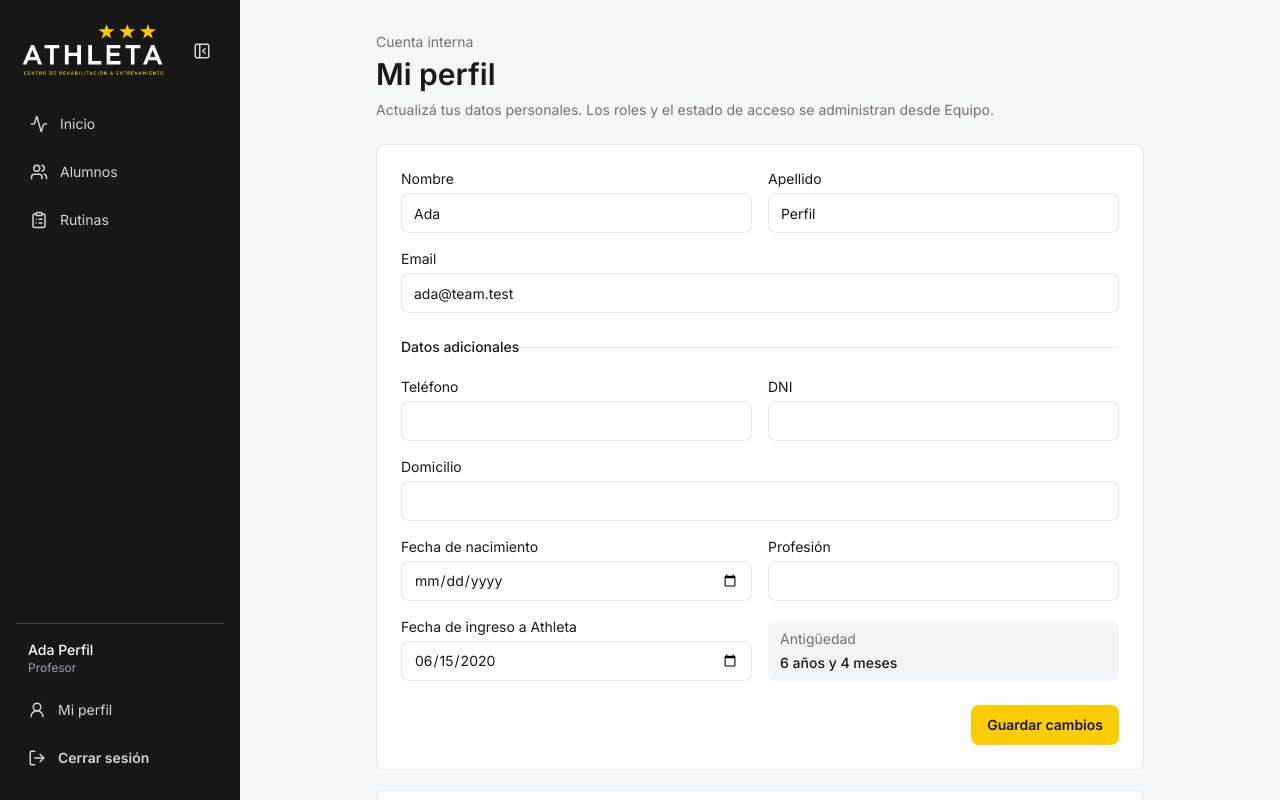
Test case: lets a user update personal data without rendering access-management controls
The image size is (1280, 800).
Expected: the field showing "Ada" is shown, [401,193,752,233]
Expected: the text "6 años y 4 meses" is shown, [780,654,897,671]
Type "27739784" into the field labelled "DNI" at [944, 421], box [768,401,1119,441]
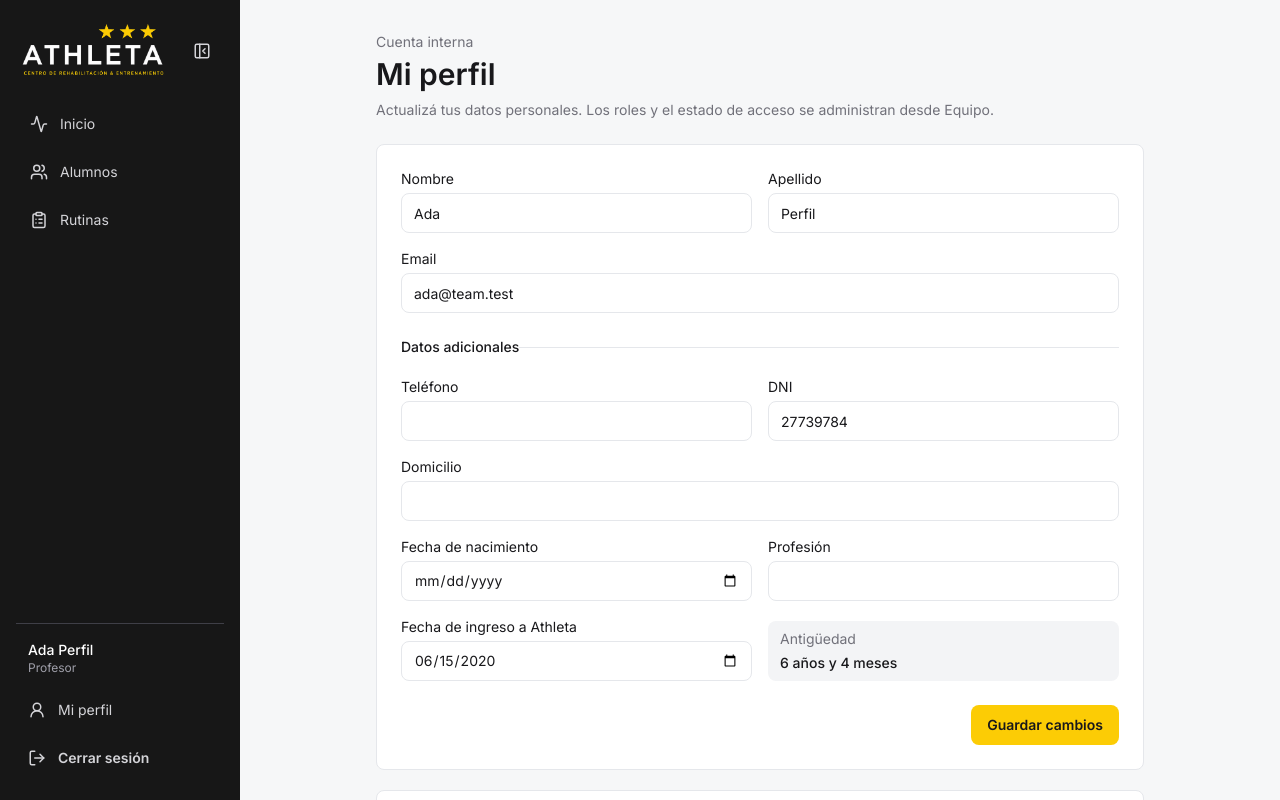
Type "351 555 0101" into the field labelled "Teléfono" at [576, 421], box [401,401,752,441]
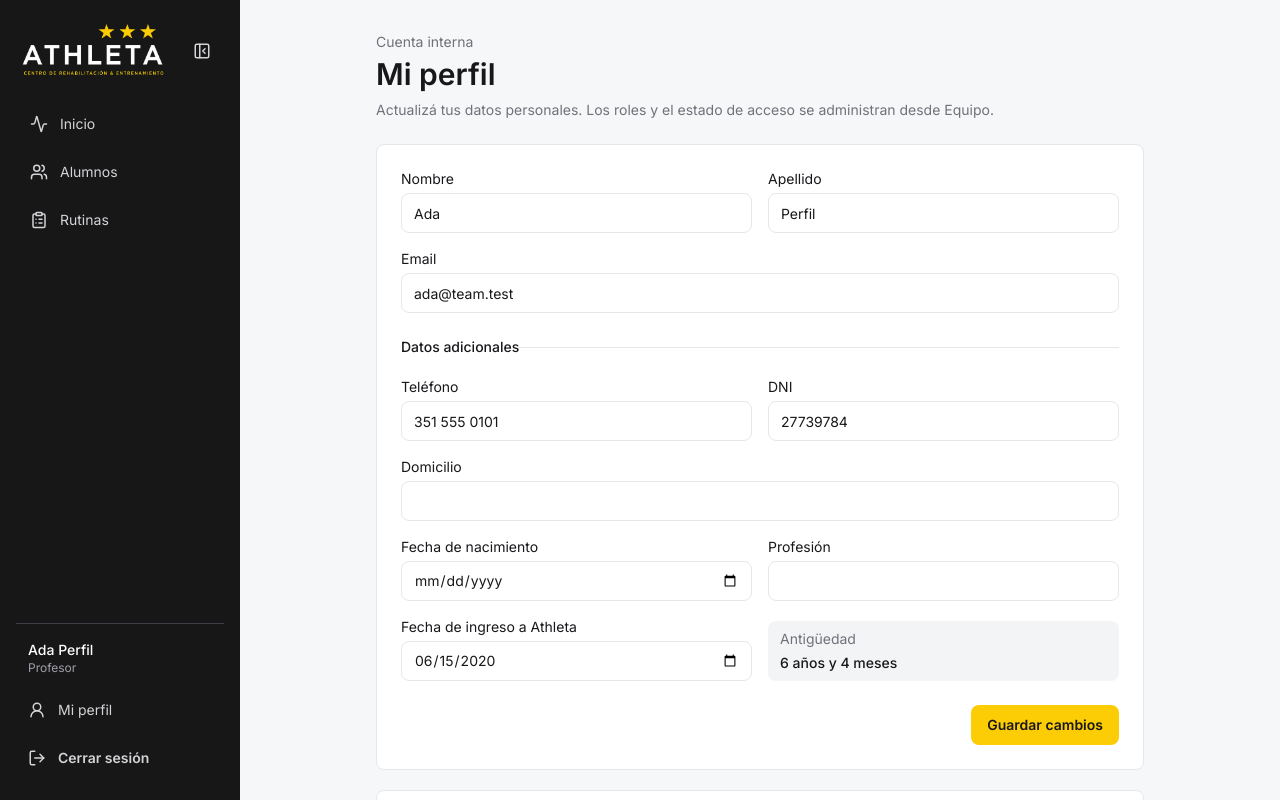
Type "Docente" into the field labelled "Profesión" at [944, 581], box [768,561,1119,601]
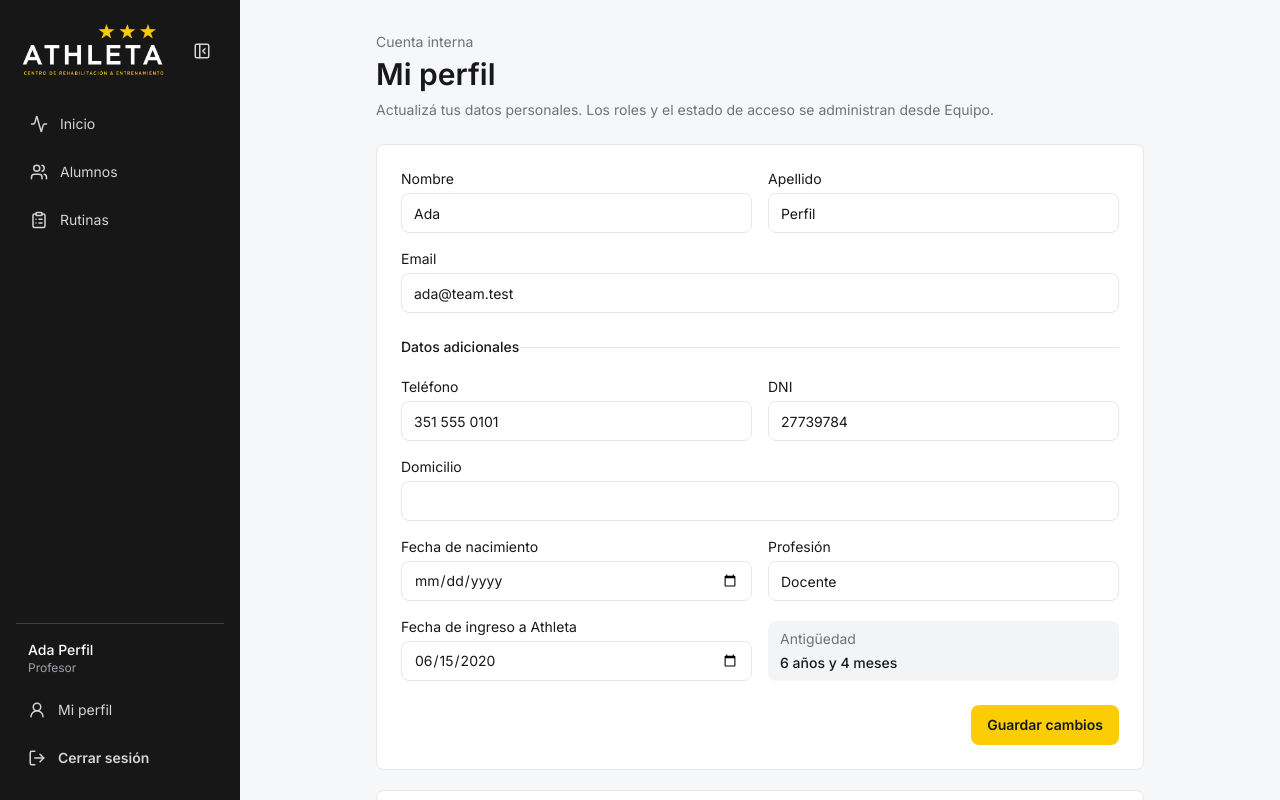
Click the button "Guardar cambios" at [1045, 725], box [971,705,1119,745]
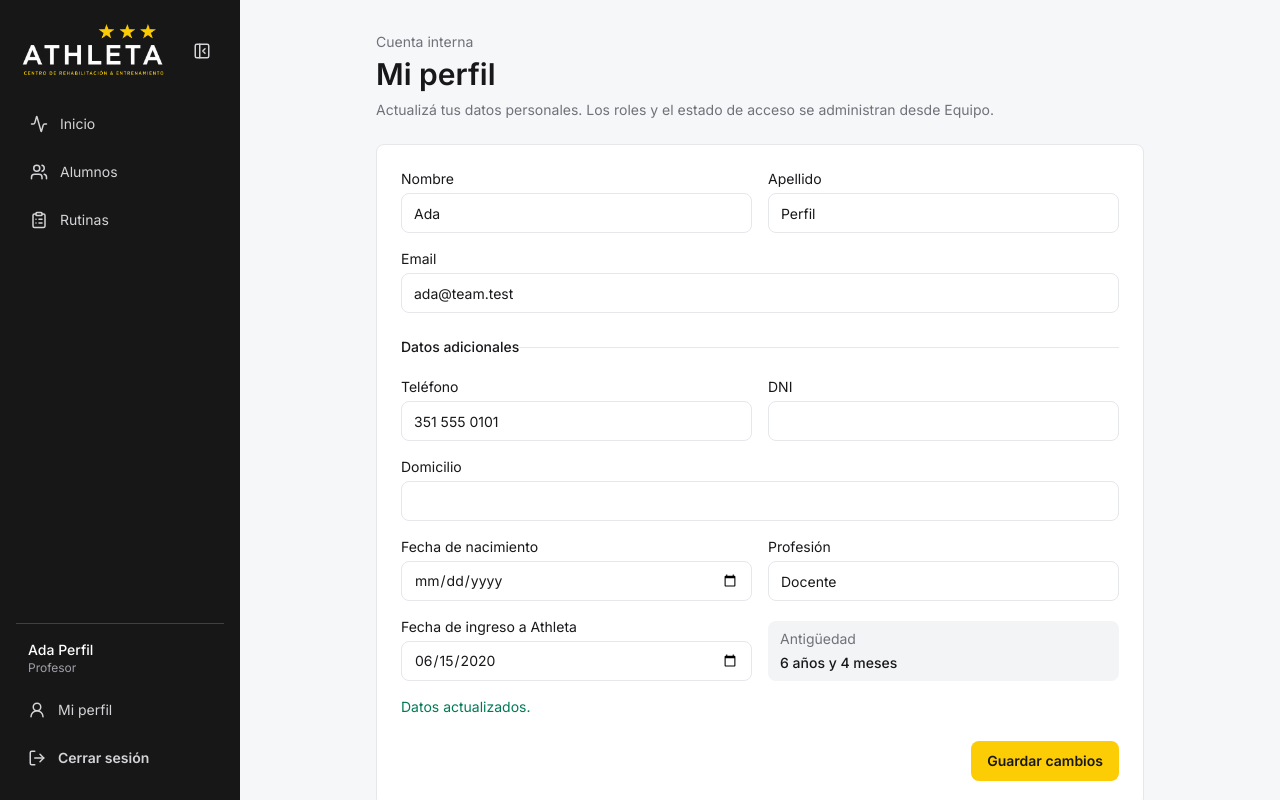
Expected: the message shows "Datos actualizados", [401,698,530,715]
